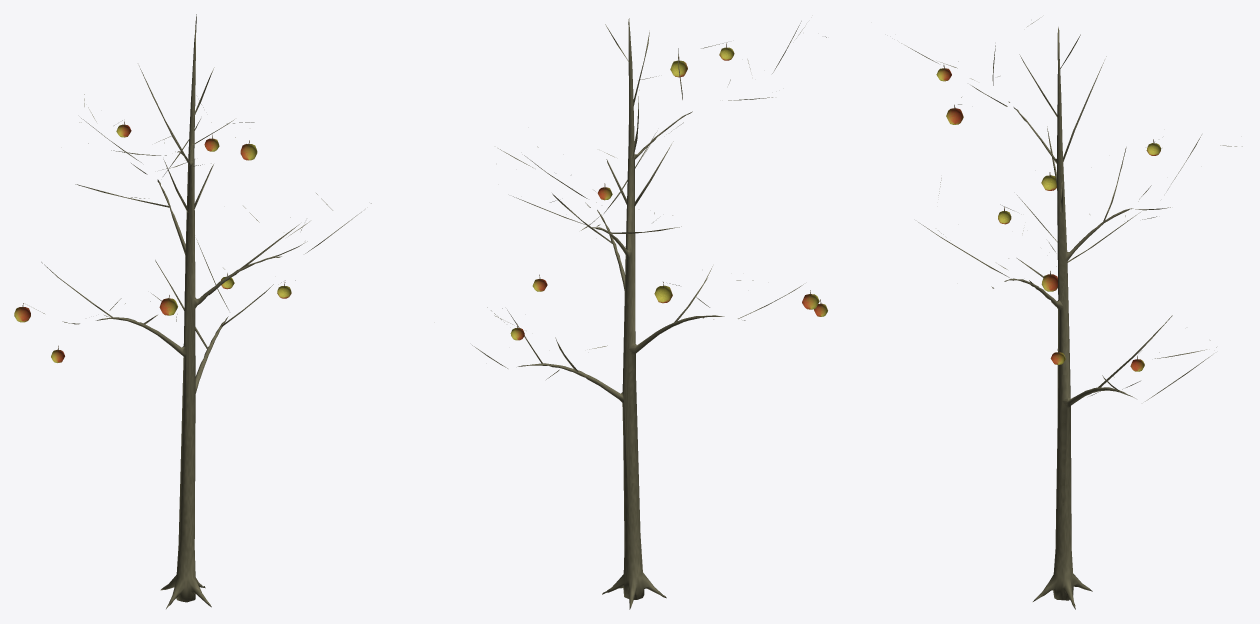
Rendered from jablon_4_daleko.glb.
3 views of the same model, side by side, from view 1: azimuth 30°, elevation 25°; view 2: azimuth 150°, elevation 25°; view 3: azimuth 270°, elevation 25° (orthographic).
Parts seen in each view (by area): view 1: 01_Young_trunk_and_branches.002, 02_Young_twigs.002, 05_Apples.002; view 2: 01_Young_trunk_and_branches.002, 02_Young_twigs.002, 05_Apples.002; view 3: 01_Young_trunk_and_branches.002, 02_Young_twigs.002, 05_Apples.002.
Boxes of the visible parts, left/top/right/bottom form: 01_Young_trunk_and_branches.002: left=96, top=26, right=281, bottom=608; 02_Young_twigs.002: left=34, top=14, right=371, bottom=349; 05_Apples.002: left=14, top=124, right=291, bottom=362; 01_Young_trunk_and_branches.002: left=518, top=18, right=745, bottom=609; 02_Young_twigs.002: left=472, top=21, right=826, bottom=379; 05_Apples.002: left=510, top=47, right=827, bottom=340; 01_Young_trunk_and_branches.002: left=1004, top=27, right=1135, bottom=609; 02_Young_twigs.002: left=901, top=18, right=1242, bottom=401; 05_Apples.002: left=936, top=68, right=1160, bottom=371.
Size of what is drawn, in the model's own units: 1.5 by 2.35 by 1.41.
Materials: 3 (2 with a texture image).
